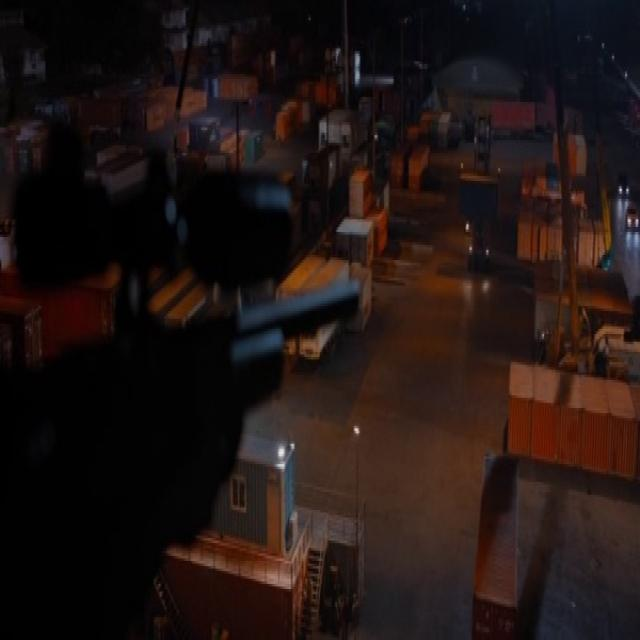rifle: (19, 145, 370, 559)
